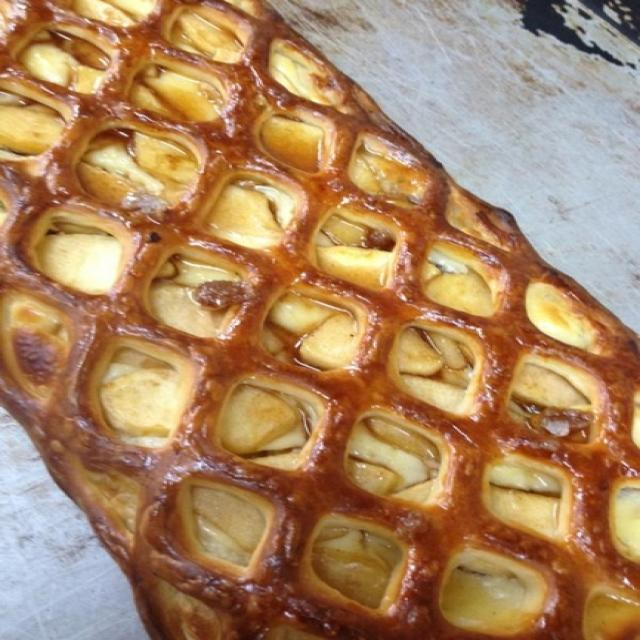Apple: (2, 3, 633, 639)
